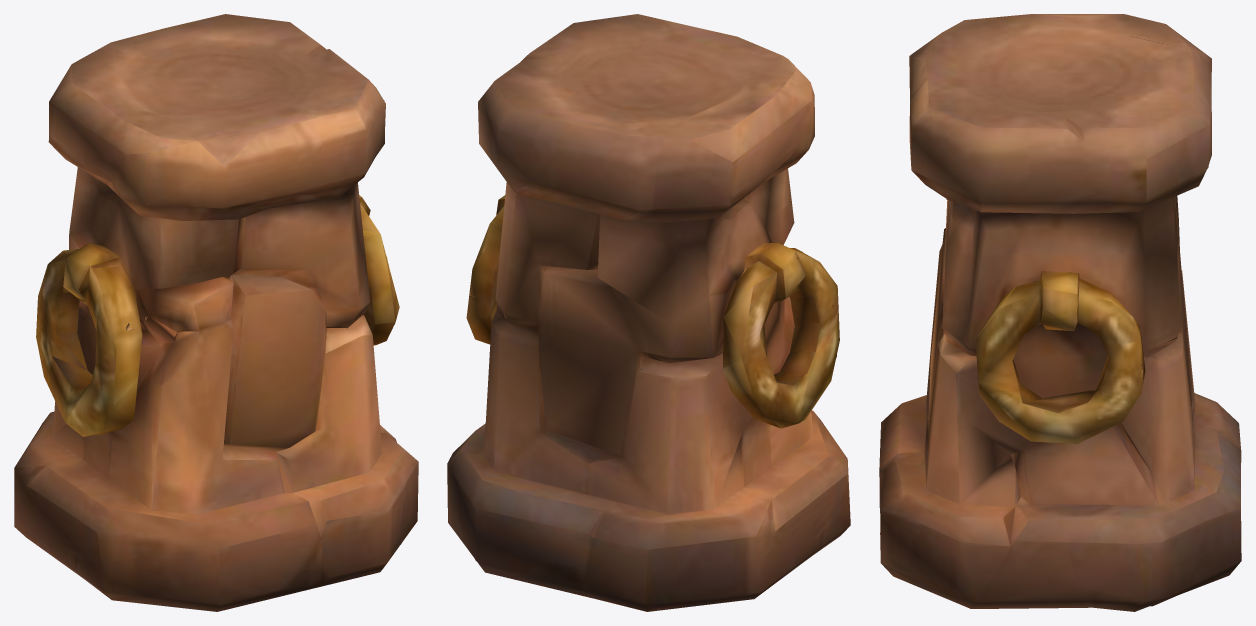
Rendered from lg-boss-arena-pillar.glb.
The picture shows the model from 3 angles, left to right: view 1: azimuth 30°, elevation 25°; view 2: azimuth 150°, elevation 25°; view 3: azimuth 270°, elevation 25°; orthographic projection. The views are drawn at different scales.
Parts seen in each view (by area): view 1: geometry_0; view 2: geometry_0; view 3: geometry_0.
Part boxes in pixels (x1=…): geometry_0: x1=14, y1=14, x2=418, y2=611; geometry_0: x1=447, y1=14, x2=850, y2=611; geometry_0: x1=879, y1=14, x2=1241, y2=611.
Bounding box in the file's own units: 0.7305 × 1 × 0.7057.
1 material, 1 textured.
